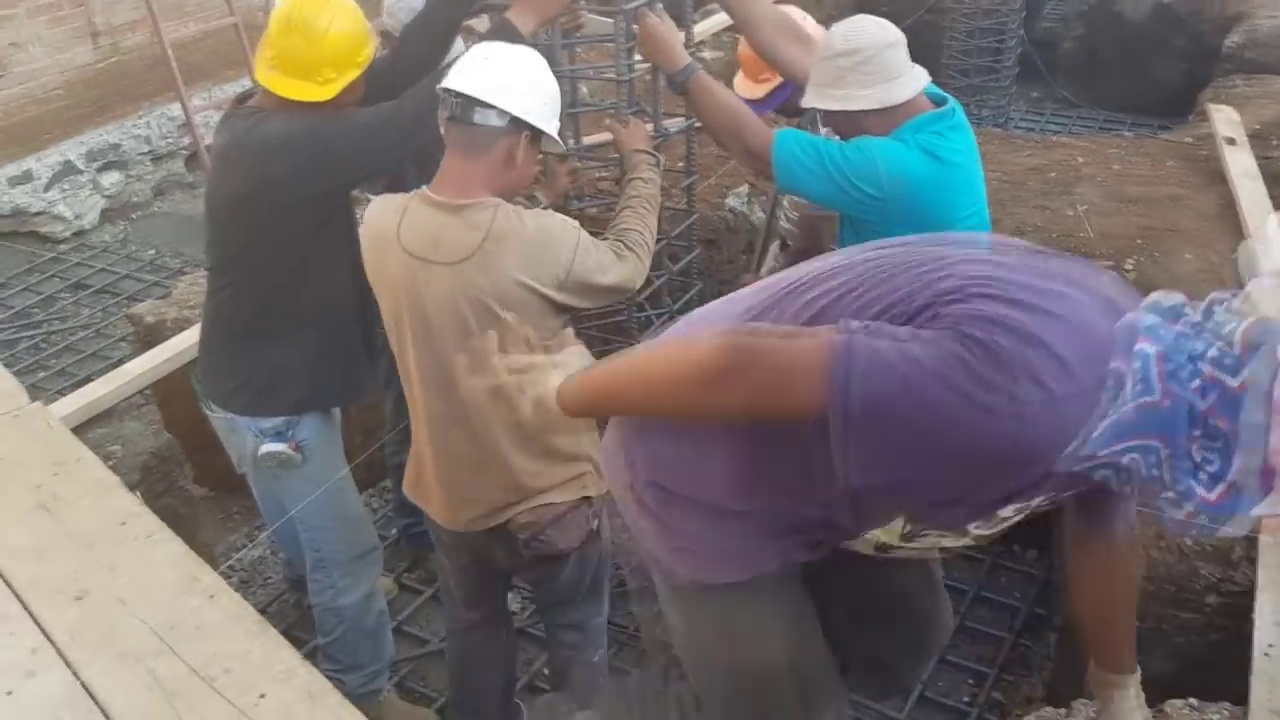helmet: (436, 39, 567, 148), (241, 3, 374, 105), (727, 49, 787, 99)
helmet-off: (799, 14, 944, 142)
helmet-on: (418, 50, 571, 213), (231, 49, 376, 123), (727, 12, 821, 119)
person: (532, 233, 1280, 720), (352, 2, 663, 720), (187, 1, 445, 720), (651, 0, 1000, 244)
